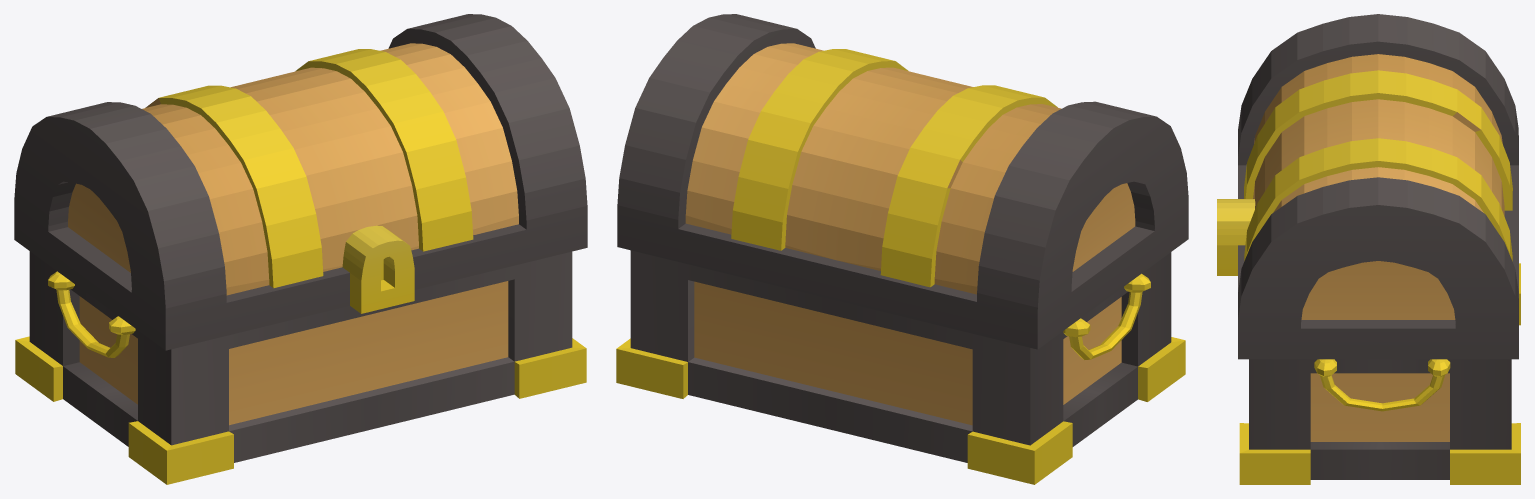
Rendered from Safe Chest 3.fbx.
The picture shows the model from 3 angles, left to right: view 1: azimuth 30°, elevation 25°; view 2: azimuth 150°, elevation 25°; view 3: azimuth 270°, elevation 25°; orthographic projection. The views are drawn at different scales.
Parts seen in each view (by area): view 1: Safe Chest 3; view 2: Safe Chest 3; view 3: Safe Chest 3.
Boxes of the visible parts, x1,y1,x2,y2 form: Safe Chest 3: (14,14,587,484); Safe Chest 3: (616,14,1188,484); Safe Chest 3: (1217,14,1520,484).
Size of the model in its own units: 107 by 70.12 by 68.94.
